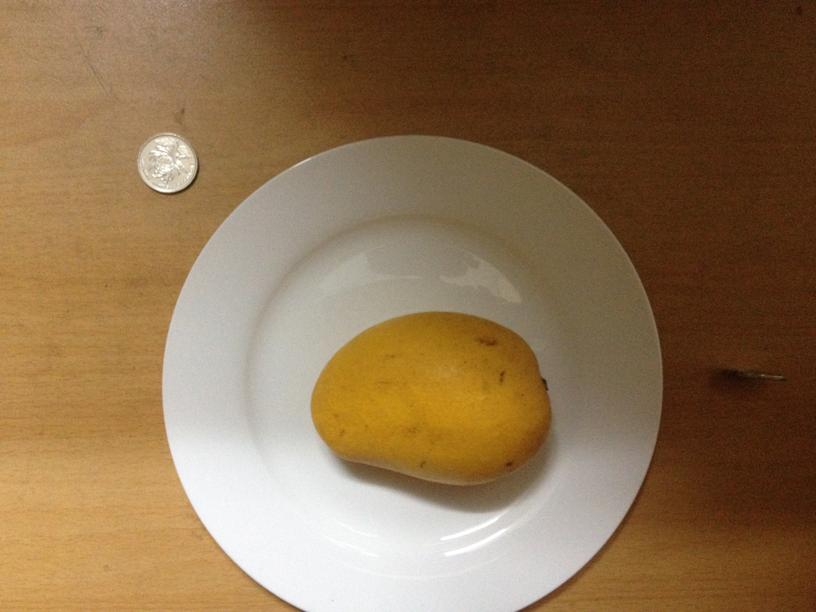coin: (135, 132, 199, 191)
mango: (306, 308, 550, 484)
